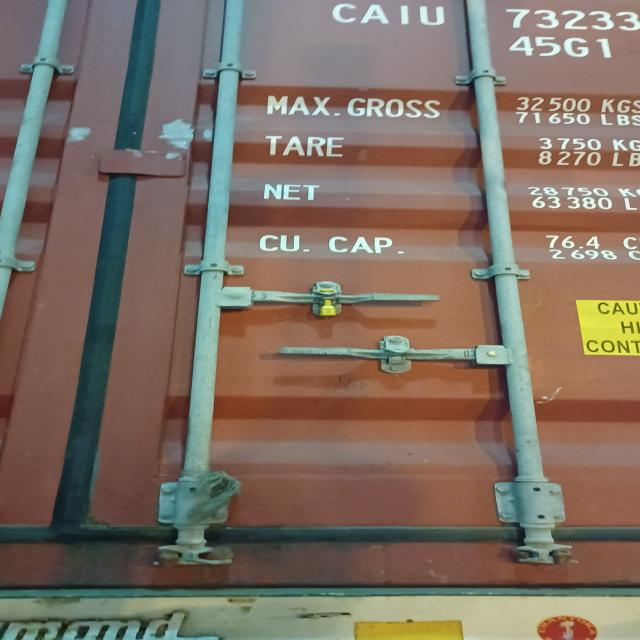seal: (310, 286, 341, 318)
